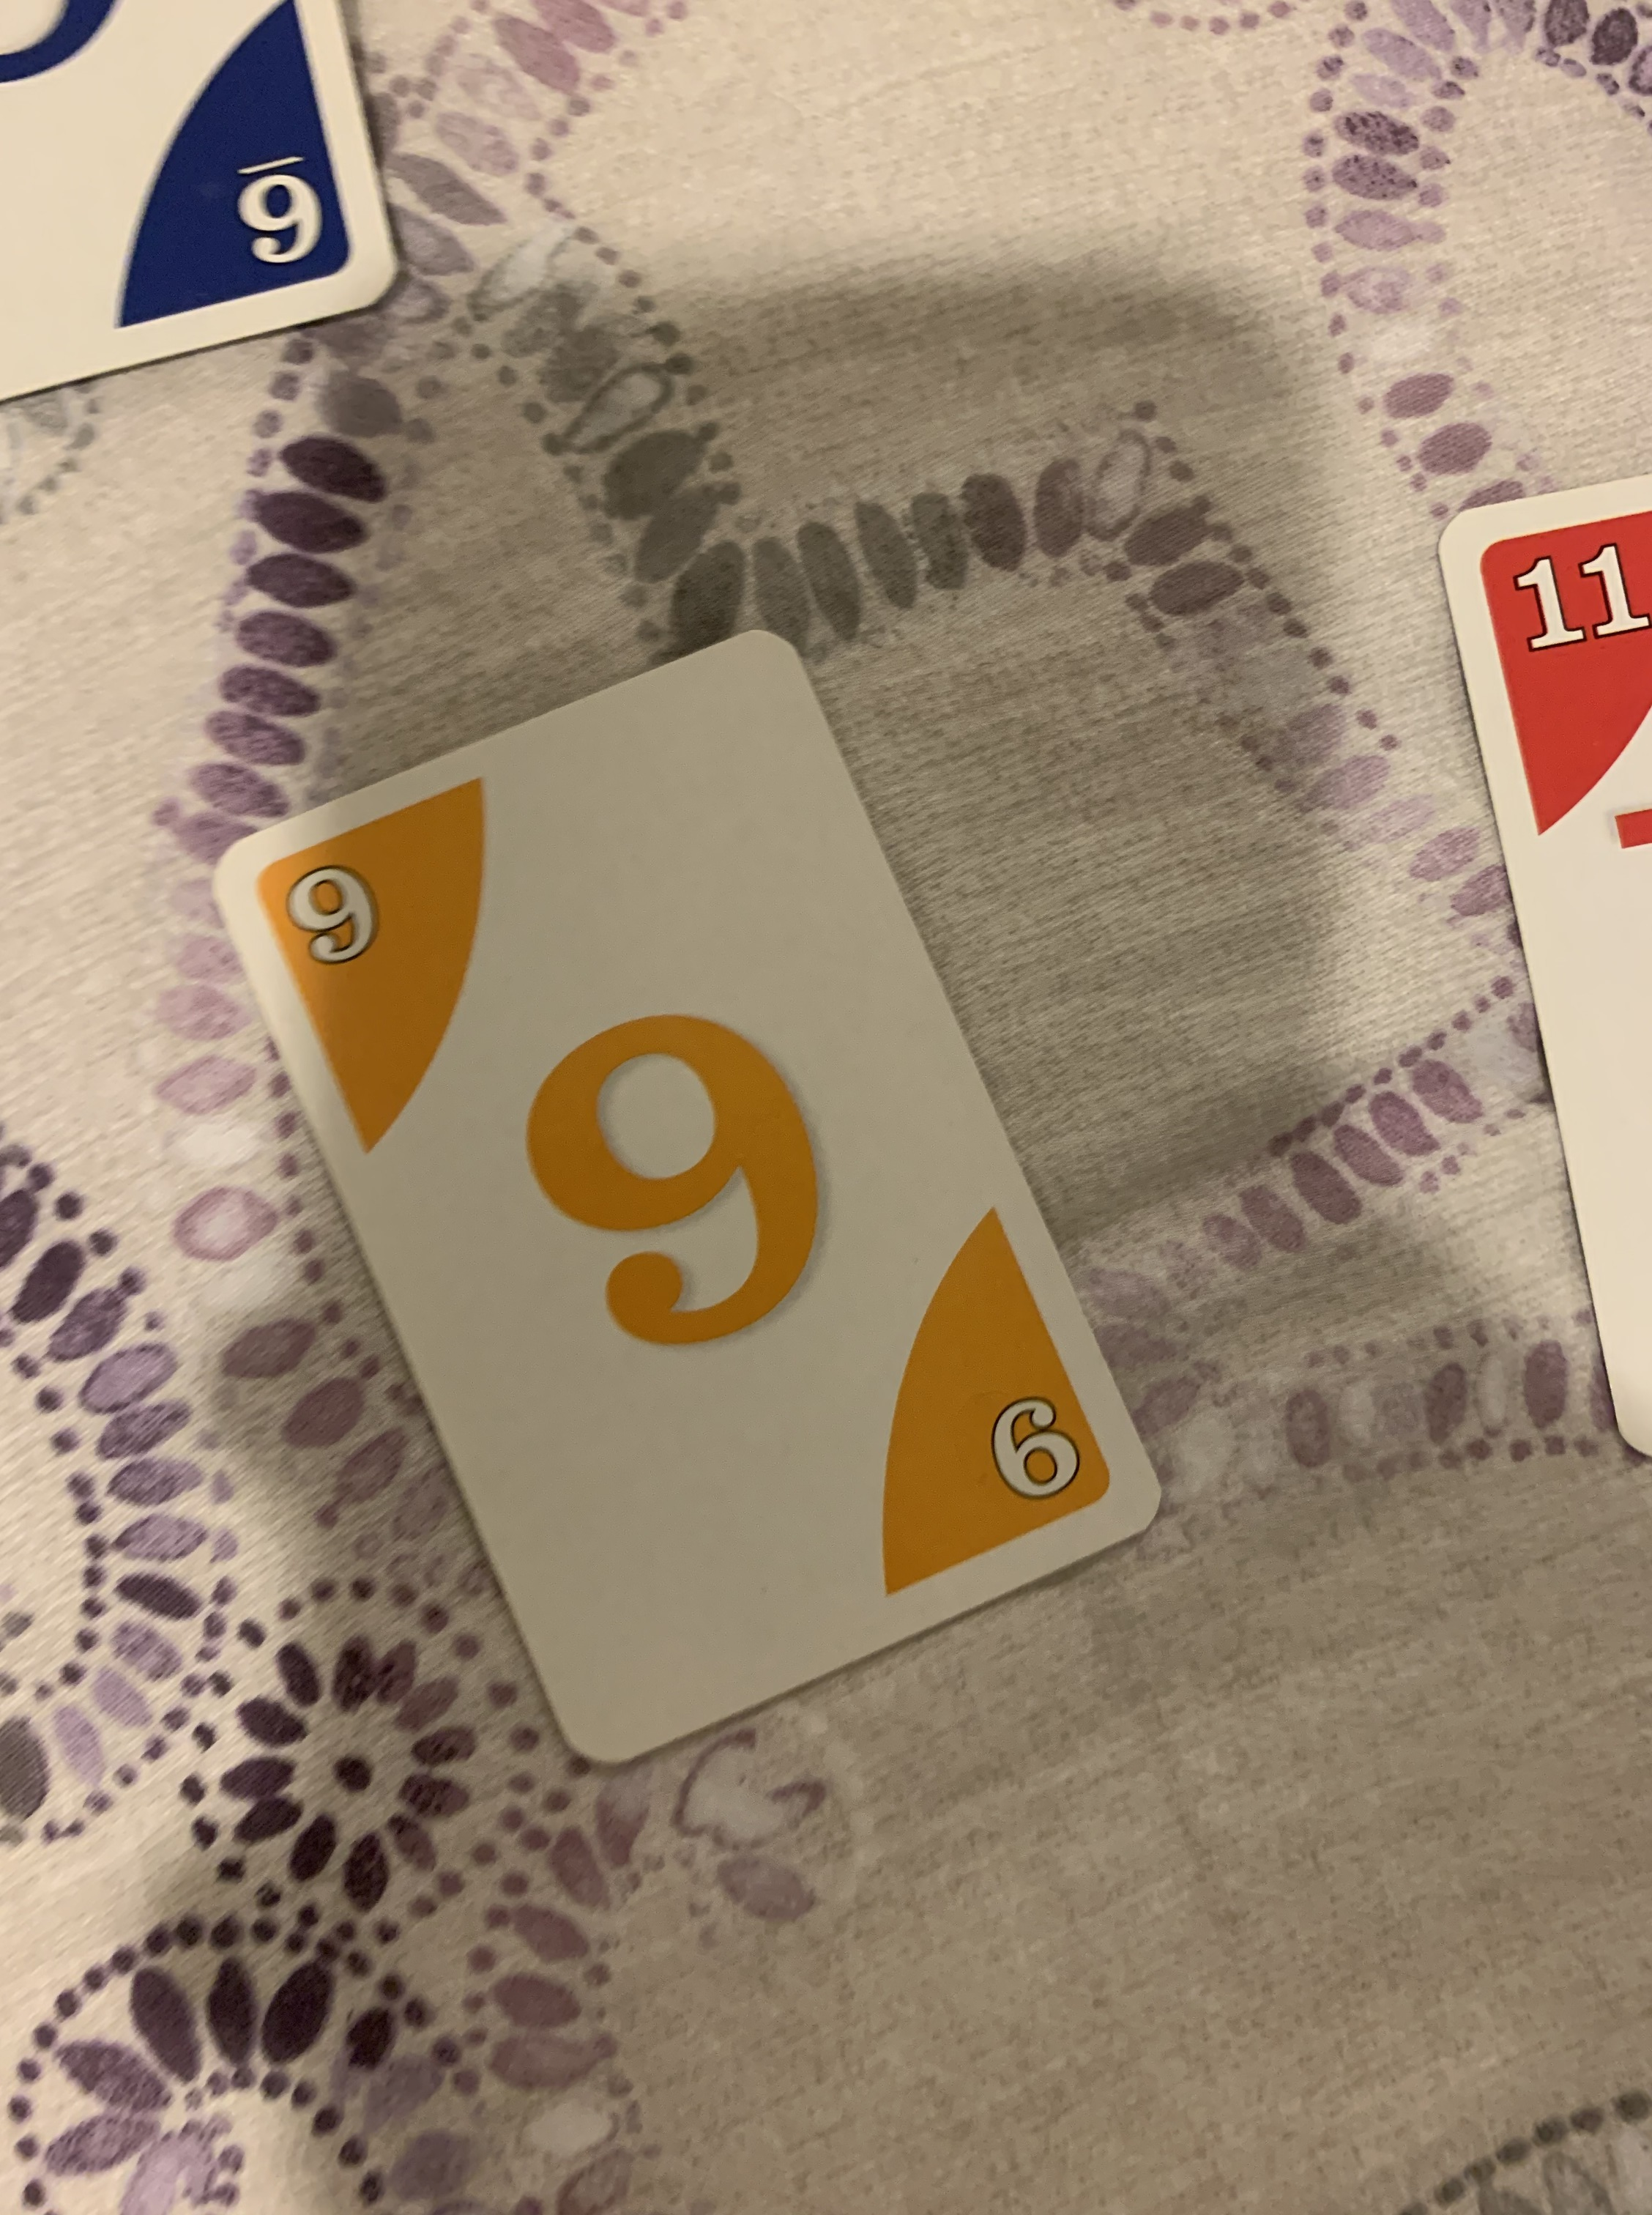nine: (198, 620, 1154, 1778)
